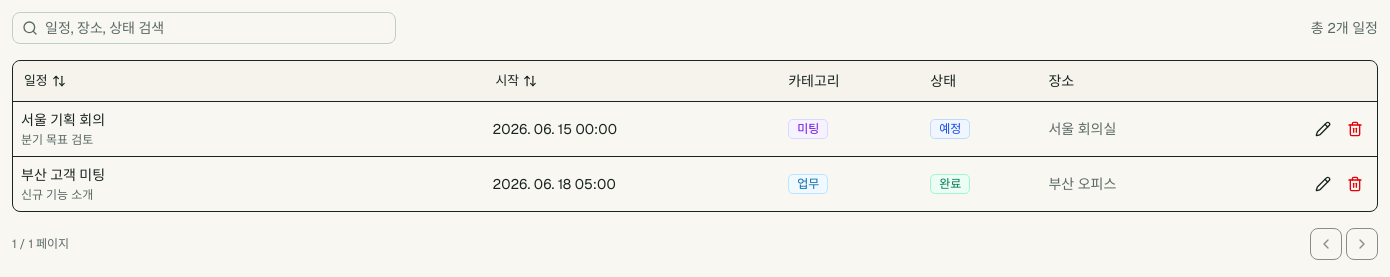
EventsTable › 검색어와 일치하는 일정만 표시한다
This screenshot has width=1390, height=277.
Expected: the number of rows with test id "event-table-row" is 2, top-left (13, 101), bottom-right (1377, 156); top-left (13, 156), bottom-right (1377, 210)
Type "부산" into the field with test id "event-search-input" at (204, 28), box top-left (12, 12), bottom-right (396, 44)
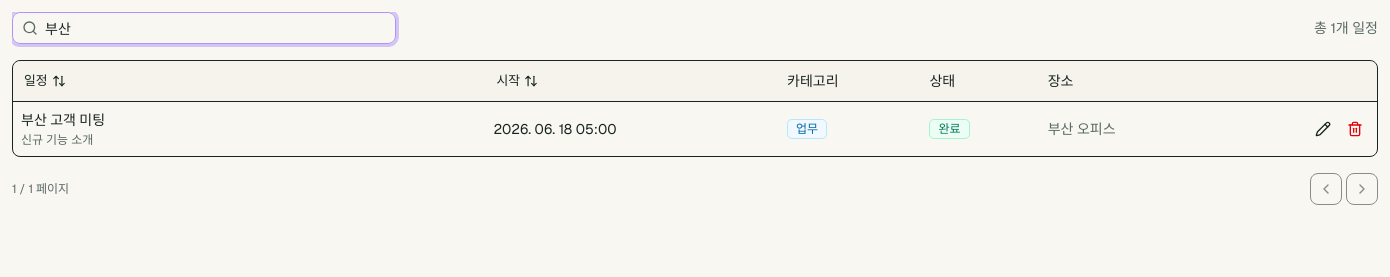
Expected: the text "부산 고객 미팅" is shown, top-left (21, 110), bottom-right (105, 128)
Now the text "서울 기획 회의" is gone
Now the number of rows with test id "event-table-row" is 1, box top-left (13, 101), bottom-right (1377, 156)
